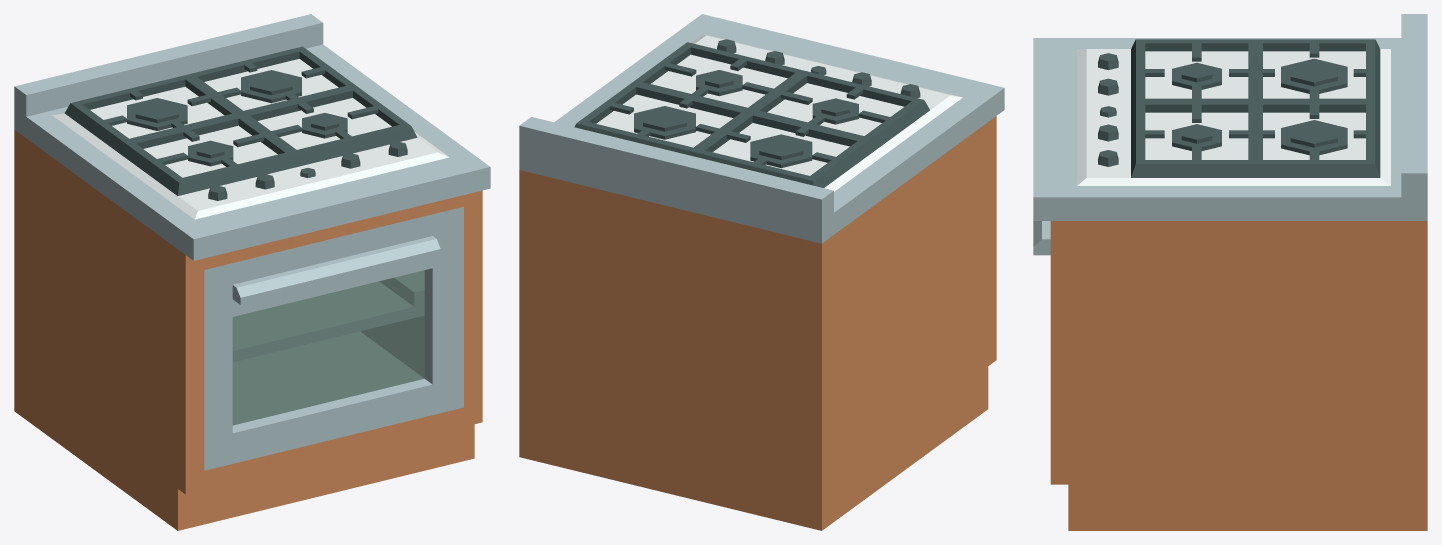
The model's file is Kitchen Stove.glb.
3 views of the same model, side by side, from view 1: azimuth 30°, elevation 25°; view 2: azimuth 150°, elevation 25°; view 3: azimuth 270°, elevation 25° (orthographic). The views are drawn at different scales.
Parts seen in each view (by area): view 1: kitchenStove(Clone), door; view 2: kitchenStove(Clone); view 3: kitchenStove(Clone), door.
Part boxes in pixels (left/top/right/bottom): kitchenStove(Clone): left=14, top=14, right=490, bottom=530; door: left=204, top=206, right=463, bottom=470; kitchenStove(Clone): left=519, top=14, right=1004, bottom=530; kitchenStove(Clone): left=1033, top=14, right=1427, bottom=530; door: left=1033, top=221, right=1050, bottom=255.
Size of the model in its own units: 0.43 by 0.45 by 0.45.
